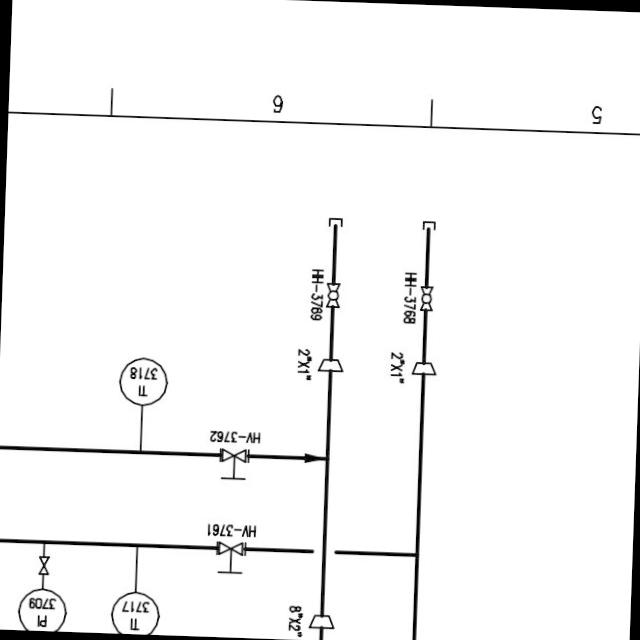BV2: (323, 278, 342, 312), (418, 282, 436, 313)
GV: (34, 552, 50, 578)
HVWT: (220, 444, 247, 488), (215, 536, 243, 576)
SP: (306, 609, 338, 630), (315, 354, 346, 374), (409, 358, 440, 378)
